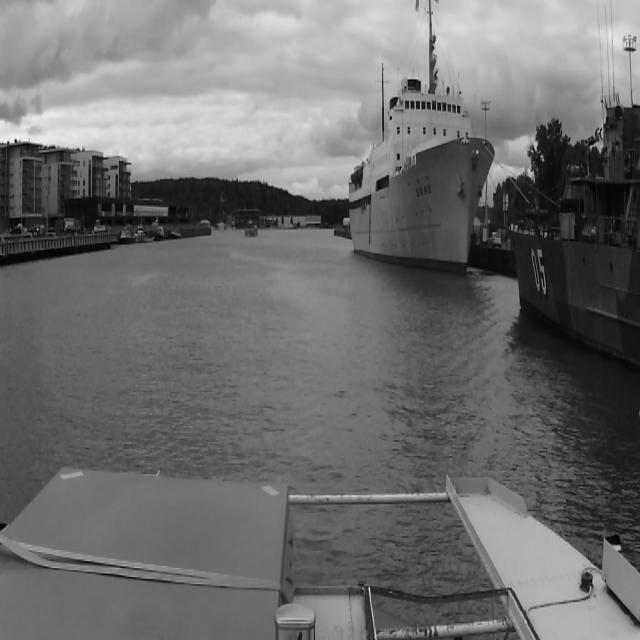ship: (509, 105, 636, 369), (350, 78, 488, 278), (134, 227, 154, 240), (152, 221, 166, 239), (119, 226, 133, 242), (245, 223, 257, 237), (170, 229, 182, 239)
